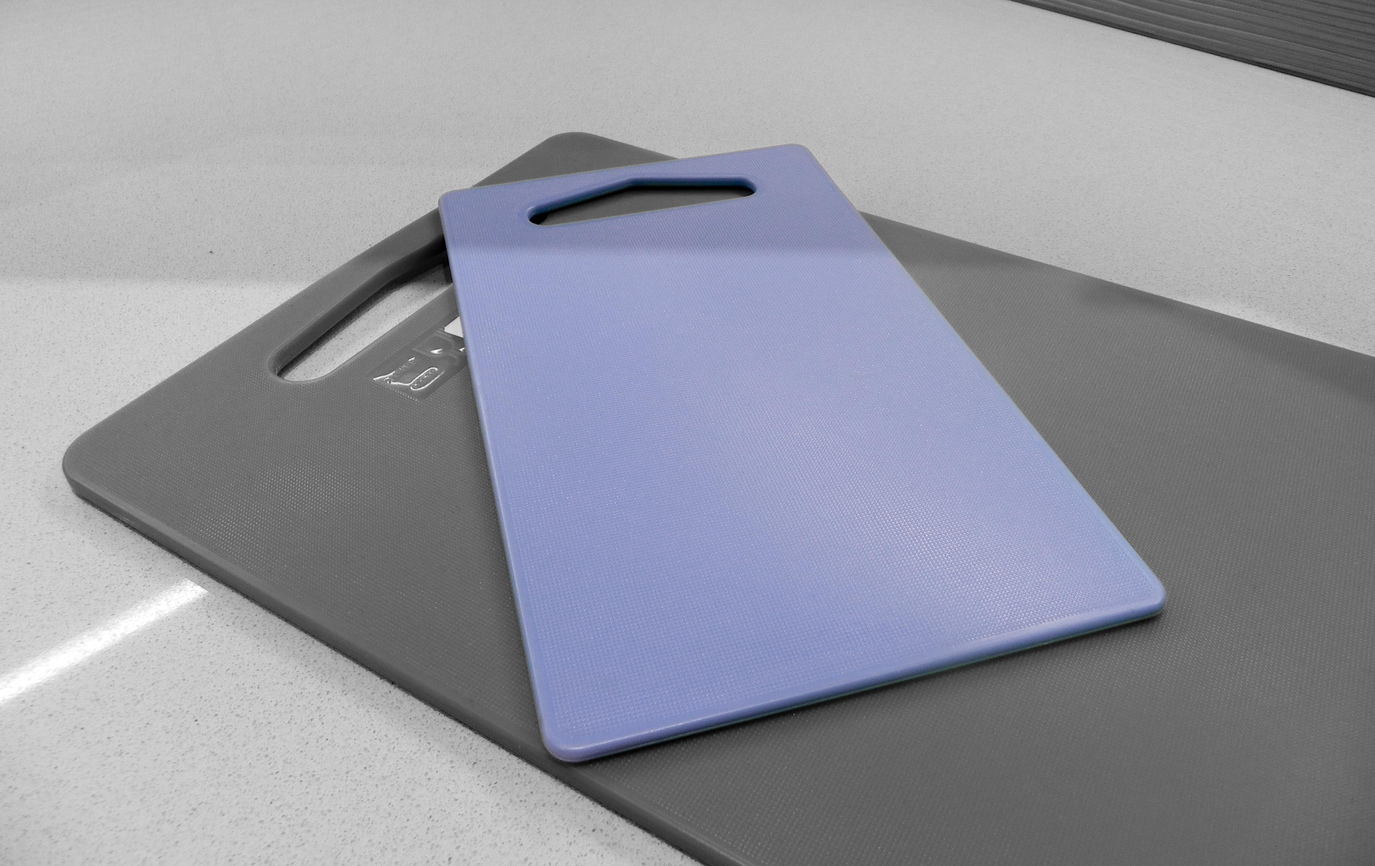gloved_hand: (423, 133, 1175, 767)
